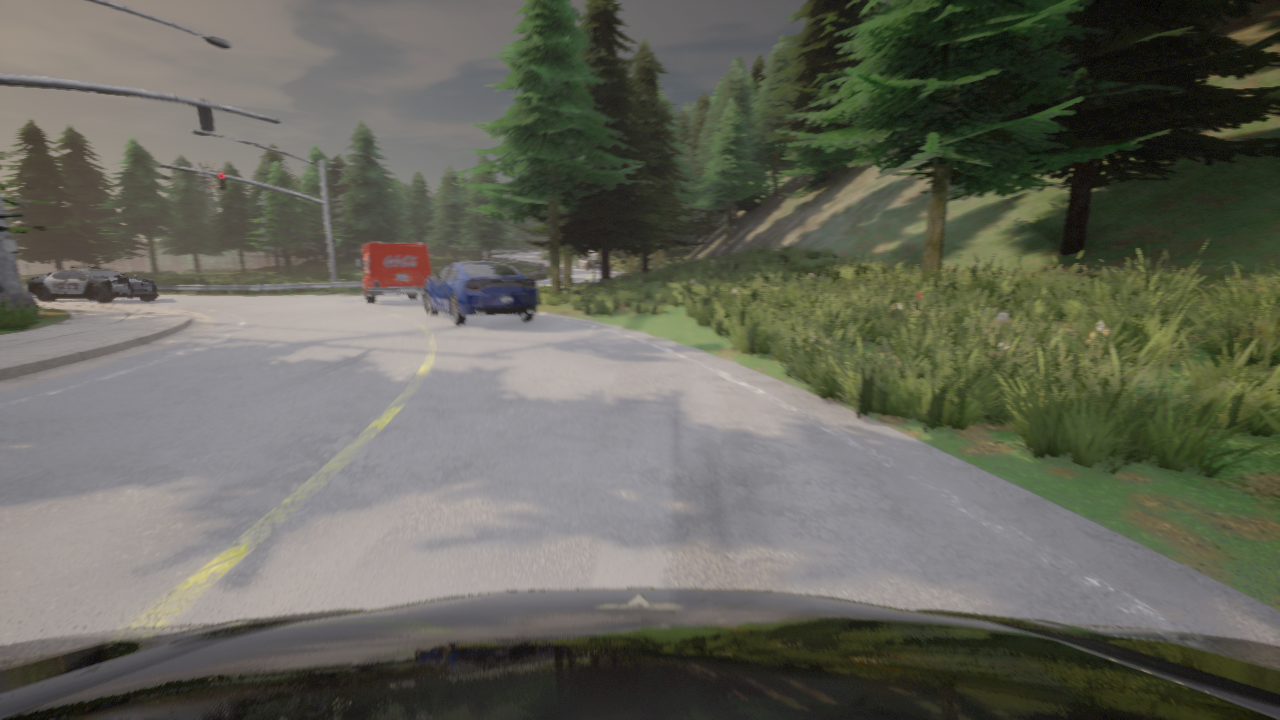cyclist: (0, 588, 1279, 719), (424, 260, 538, 324), (355, 242, 432, 303), (26, 266, 158, 301), (575, 255, 600, 269), (34, 271, 50, 274)
